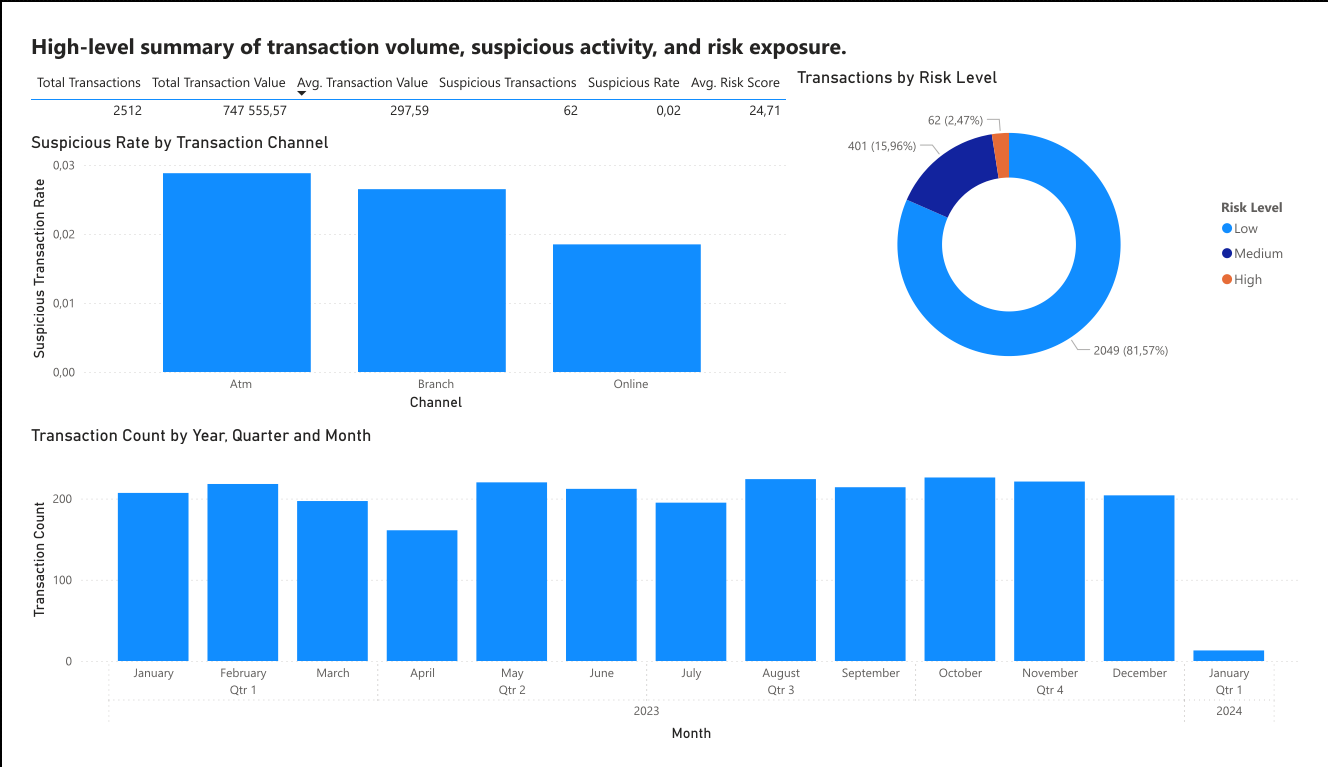

This screenshot's page, from the dashboard's own definition file:
{"tool":"powerbi","page":{"name":"Executive Risk Overview","canvas":[1280,720],"ordinal":0},"visuals":[{"type":"tableEx","fields":{"Values":["fact_transactions.Transaction Count","fact_transactions.Total Transaction Amount","fact_transactions.Average Transaction Amount","fact_transactions.Suspicious Transaction Count","fact_transactions.Suspicious Transaction Rate","Avg(fact_transactions.risk_score)"]},"box":[0,41.4,767.1,62.9],"z":0},{"type":"textbox","box":[0,0,858.6,41.4],"z":1000},{"type":"donutChart","title":"Transactions by Risk Level","fields":{"Category":["fact_transactions.risk_level"],"Y":["fact_transactions.Transaction Count"]},"box":[765.7,41.4,514.3,335.7],"z":2000},{"type":"clusteredColumnChart","title":"Suspicious Rate by Transaction Channel","fields":{"Category":["dim_channel.channel"],"Y":["fact_transactions.Suspicious Transaction Rate"]},"box":[0,105.7,765.7,282.9],"z":3000},{"type":"clusteredColumnChart","fields":{"Category":["dim_date.date.Variation.Date Hierarchy.Year","dim_date.date.Variation.Date Hierarchy.Quarter","dim_date.date.Variation.Date Hierarchy.Month","dim_date.date.Variation.Date Hierarchy.Day"],"Y":["fact_transactions.Transaction Count"]},"box":[0,398.9,1280,321.1],"z":4000}]}

Visuals, with their boxes in screenshot pixels (x1, y1, x2, y2), scaled from the page's 1280x720 canvas onto the 1328x767 screenshot:
tableEx - fact_transactions.Transaction Count x fact_transactions.Total Transaction Amount: x1=0 y1=44 x2=796 y2=111
textbox: x1=0 y1=0 x2=891 y2=44
"Transactions by Risk Level" donutChart: x1=794 y1=44 x2=1327 y2=402
"Suspicious Rate by Transaction Channel" clusteredColumnChart: x1=0 y1=113 x2=794 y2=414
clusteredColumnChart - dim_date.date.Variation.Date Hierarchy.Year x dim_date.date.Variation.Date Hierarchy.Quarter: x1=0 y1=425 x2=1327 y2=766
